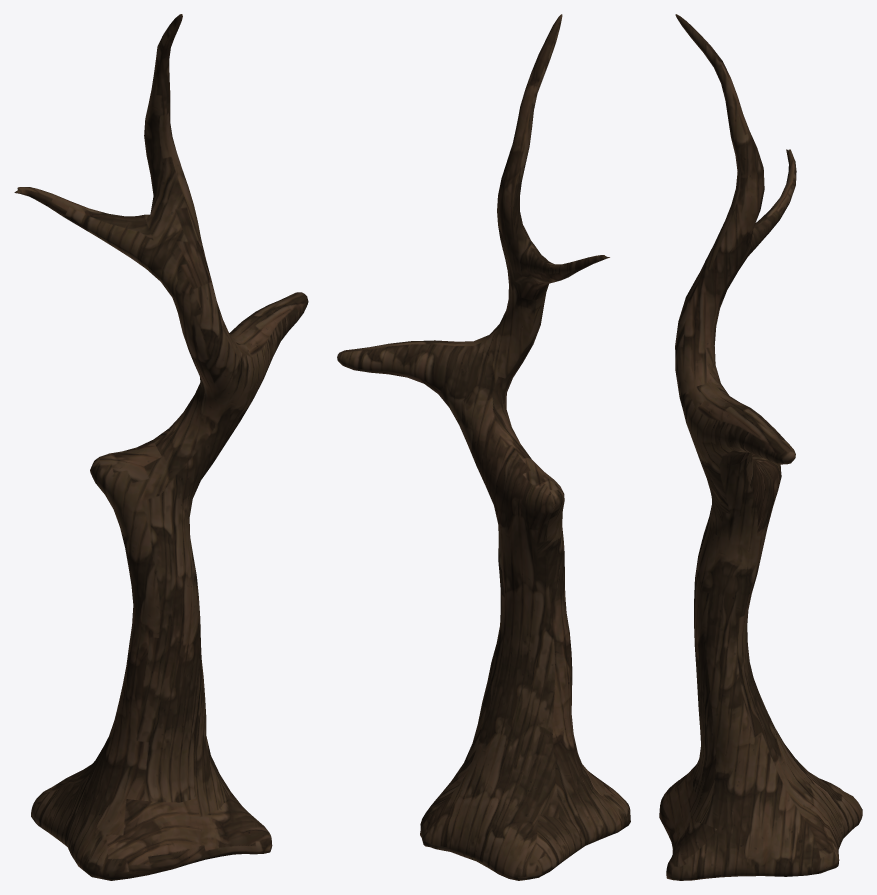
Rendered from Pohon Fix.fbx.
3 renders of one model, left to right at view 1: azimuth 30°, elevation 25°; view 2: azimuth 150°, elevation 25°; view 3: azimuth 270°, elevation 25°, orthographic. The views are drawn at different scales.
Parts seen in each view (by area): view 1: Retopo_Circle.002; view 2: Retopo_Circle.002; view 3: Retopo_Circle.002.
Boxes of the visible parts, x1,y1,x2,y2 form: Retopo_Circle.002: (14,14,308,880); Retopo_Circle.002: (337,14,630,880); Retopo_Circle.002: (659,14,862,880).
Bounding box in the file's own units: 999 × 2791 × 623.
